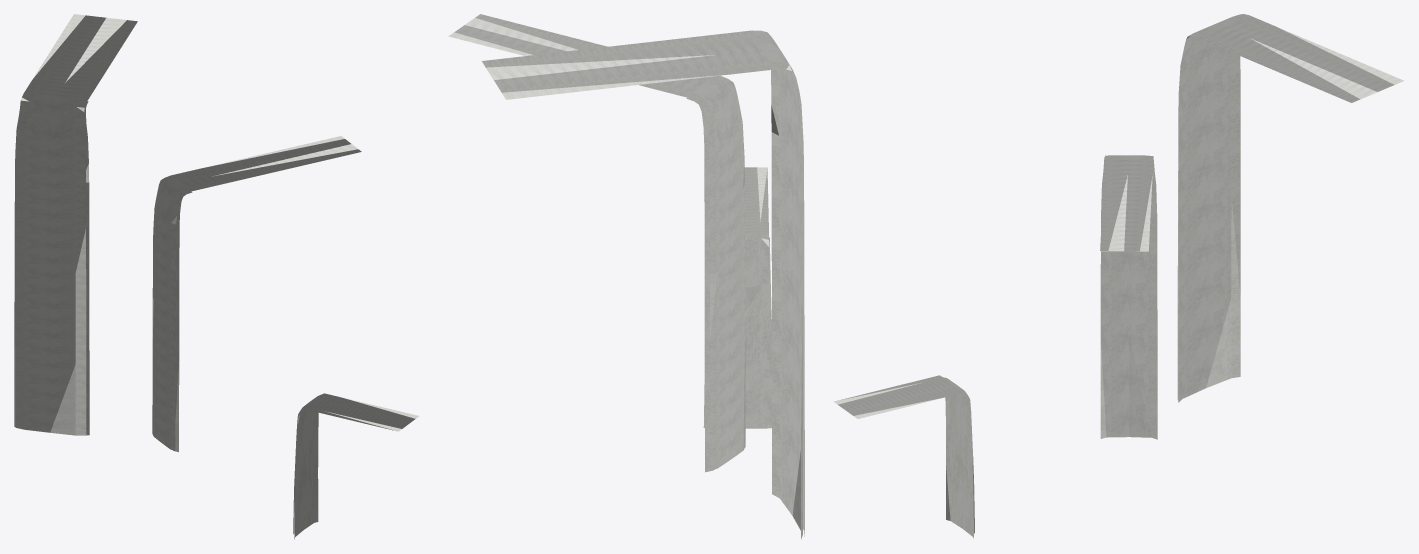
Rendered from stg110_MotWater_16.obj.
The picture shows the model from 3 angles, left to right: view 1: azimuth 30°, elevation 25°; view 2: azimuth 150°, elevation 25°; view 3: azimuth 270°, elevation 25°; orthographic projection. The views are drawn at different scales.
Parts seen in each view (by area): view 1: polygon2, polygon0, polygon5, polygon4, polygon3, polygon1; view 2: polygon0, polygon3, polygon2, polygon4, polygon1, polygon5; view 3: polygon3, polygon1, polygon2, polygon0, polygon5, polygon4.
Boxes of the visible parts, x1,y1,x2,y2 form: polygon2: (15, 14, 137, 435); polygon0: (152, 136, 361, 450); polygon5: (294, 409, 318, 539); polygon4: (293, 393, 419, 534); polygon3: (14, 101, 89, 435); polygon1: (173, 191, 192, 452); polygon0: (448, 14, 745, 470); polygon3: (771, 69, 802, 539); polygon2: (481, 30, 804, 536); polygon4: (744, 167, 771, 423); polygon1: (686, 98, 713, 472); polygon5: (703, 237, 771, 428); polygon3: (1178, 36, 1240, 402); polygon1: (1100, 157, 1157, 439); polygon2: (1177, 14, 1404, 399); polygon0: (1100, 155, 1153, 251); polygon5: (945, 393, 973, 538); polygon4: (833, 375, 974, 533).
Size of the model in its own units: 1379 by 1750 by 2108.
